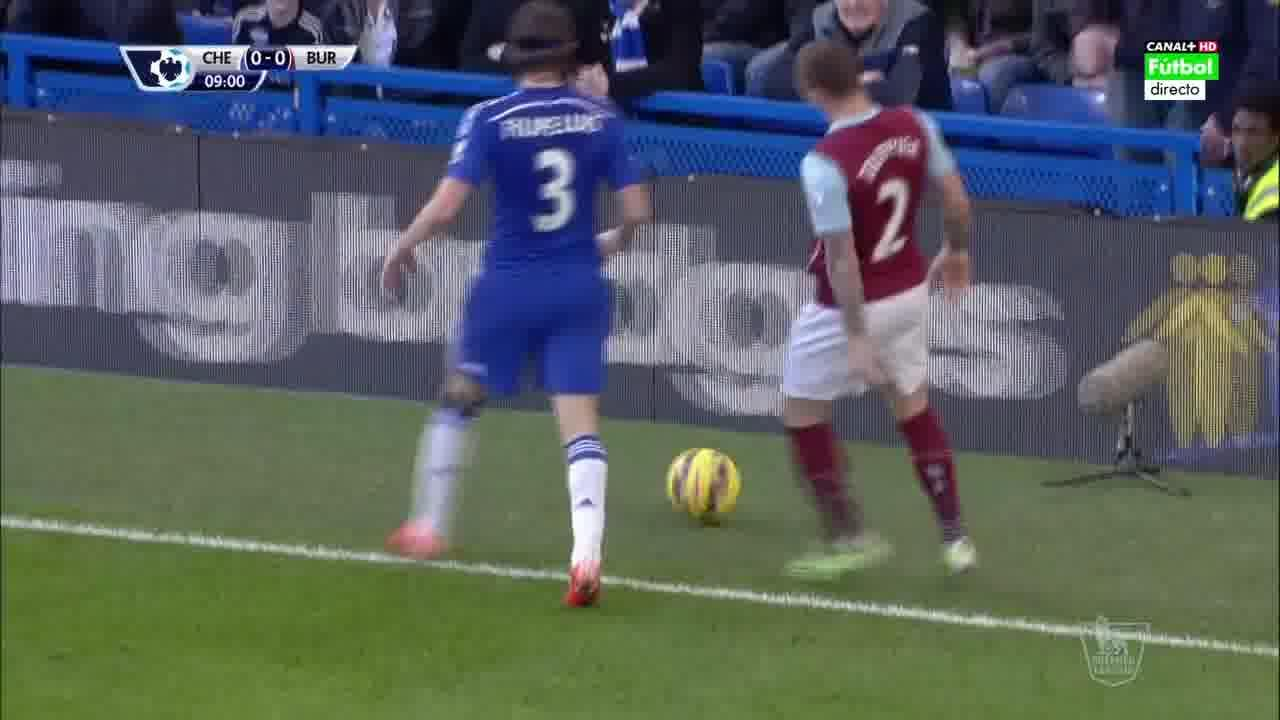football: (662, 441, 747, 529)
